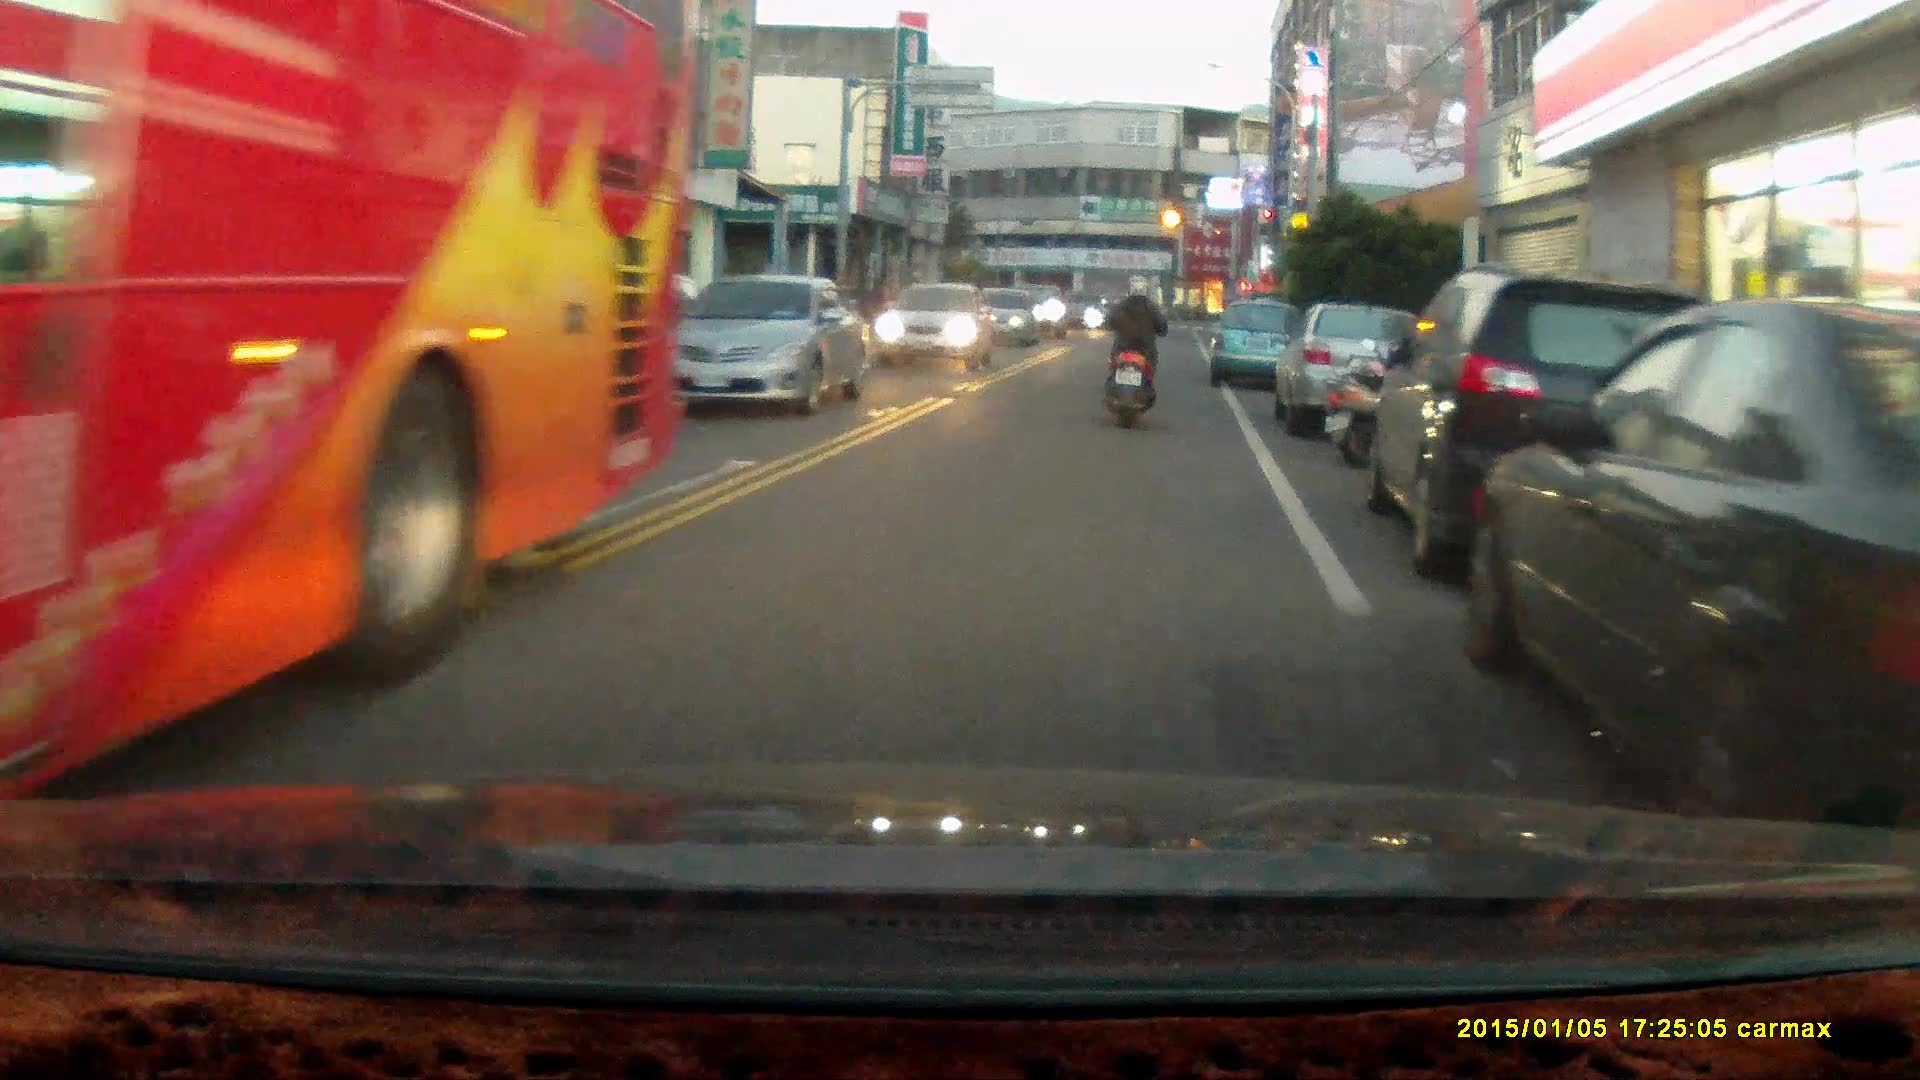rider: (1098, 272, 1167, 430)
vehicle: (1, 9, 687, 795), (1465, 297, 1920, 859), (1361, 264, 1809, 588), (644, 275, 872, 409), (1278, 304, 1451, 442), (876, 283, 997, 373), (1205, 301, 1305, 395), (967, 286, 1045, 349)
